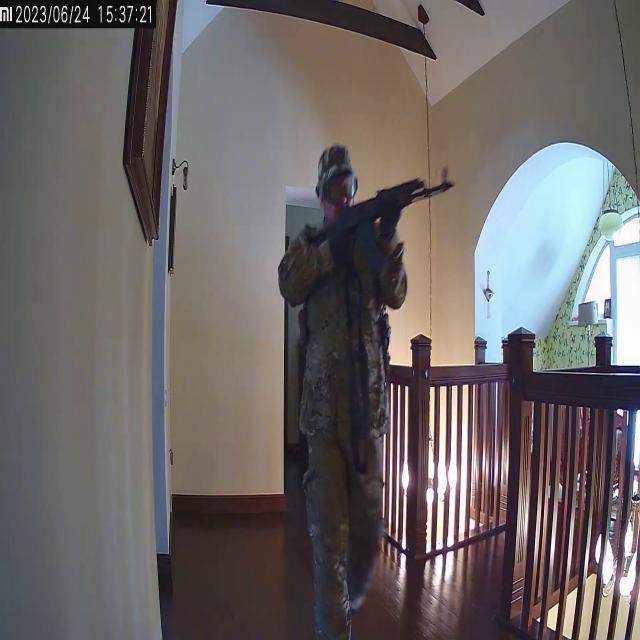gun: (278, 141, 461, 640), (318, 170, 456, 256)
